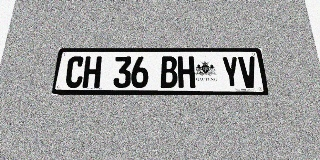3: (113, 56, 131, 88)
6: (131, 56, 148, 88)
B: (160, 56, 178, 88)
C: (64, 56, 85, 88)
H: (82, 56, 102, 88), (177, 56, 195, 88)
V: (238, 56, 259, 88)
Y: (221, 56, 241, 88)
